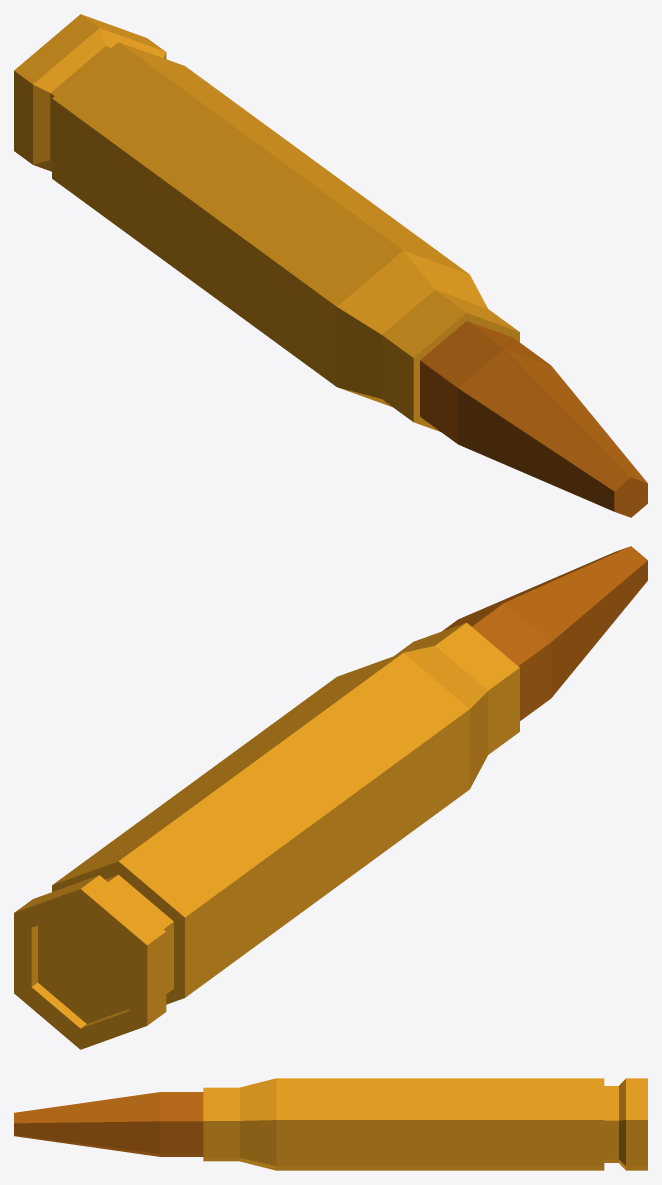
File: Bullet_A.fbx
The picture shows the model from 3 angles, top to bottom: view 1: azimuth 30°, elevation 25°; view 2: azimuth 150°, elevation 25°; view 3: azimuth 270°, elevation 25°; orthographic projection. The views are drawn at different scales.
Visible parts, largest first — view 1: Bullet_A, Bullet_A_Part; view 2: Bullet_A, Bullet_A_Part; view 3: Bullet_A, Bullet_A_Part.
Part boxes in pixels (box(x1,y1,x2,y2)): Bullet_A: box(14, 14, 519, 431); Bullet_A_Part: box(420, 321, 647, 517); Bullet_A: box(14, 622, 519, 1049); Bullet_A_Part: box(442, 546, 647, 720); Bullet_A: box(203, 1078, 647, 1170); Bullet_A_Part: box(14, 1092, 203, 1156).
Size of the model in its own units: 0.0121 by 0.014 by 0.087.
